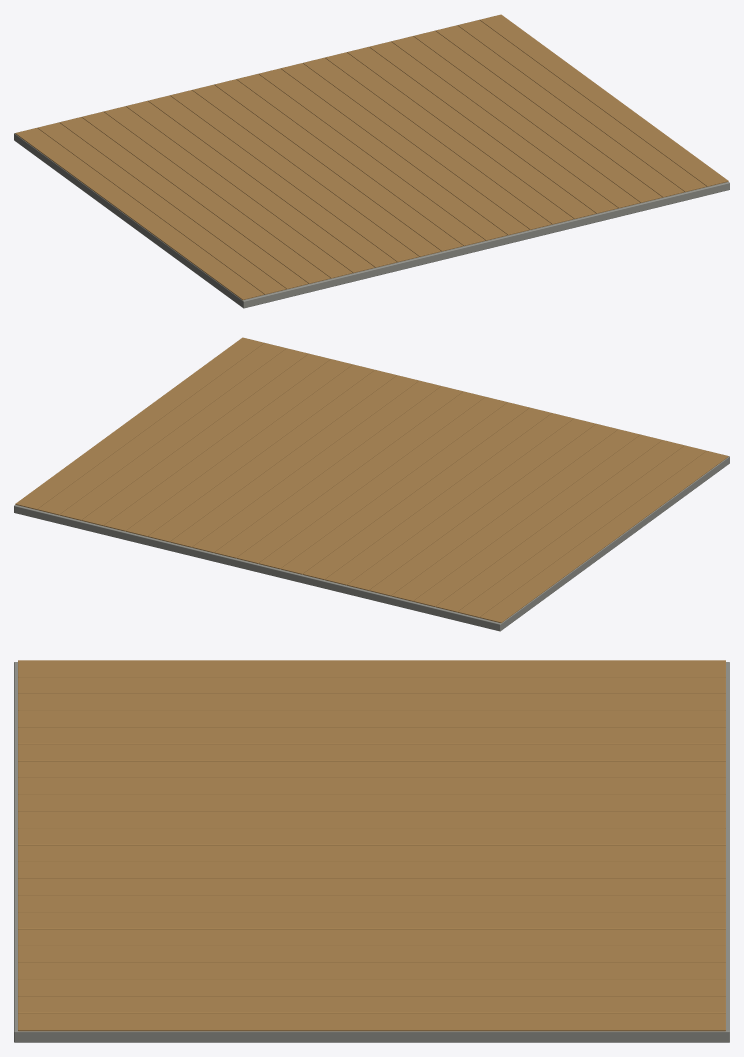
Rendered from abandoned-puppet-theatre-and-prop-vault-theatre-floor--89cb62c0__31103.glb.
3 renders of one model, top to bottom at view 1: azimuth 30°, elevation 25°; view 2: azimuth 150°, elevation 25°; view 3: azimuth 270°, elevation 25°, orthographic. The views are drawn at different scales.
Parts seen in each view (by area): view 1: theatre-floor-base; view 2: theatre-floor-base; view 3: theatre-floor-base.
Part boxes in pixels (<box>): theatre-floor-base: <box>14,14,729,308</box>; theatre-floor-base: <box>14,337,729,631</box>; theatre-floor-base: <box>14,660,729,1042</box>.
Bounding box in the file's own units: 11 × 0.1816 × 9.
